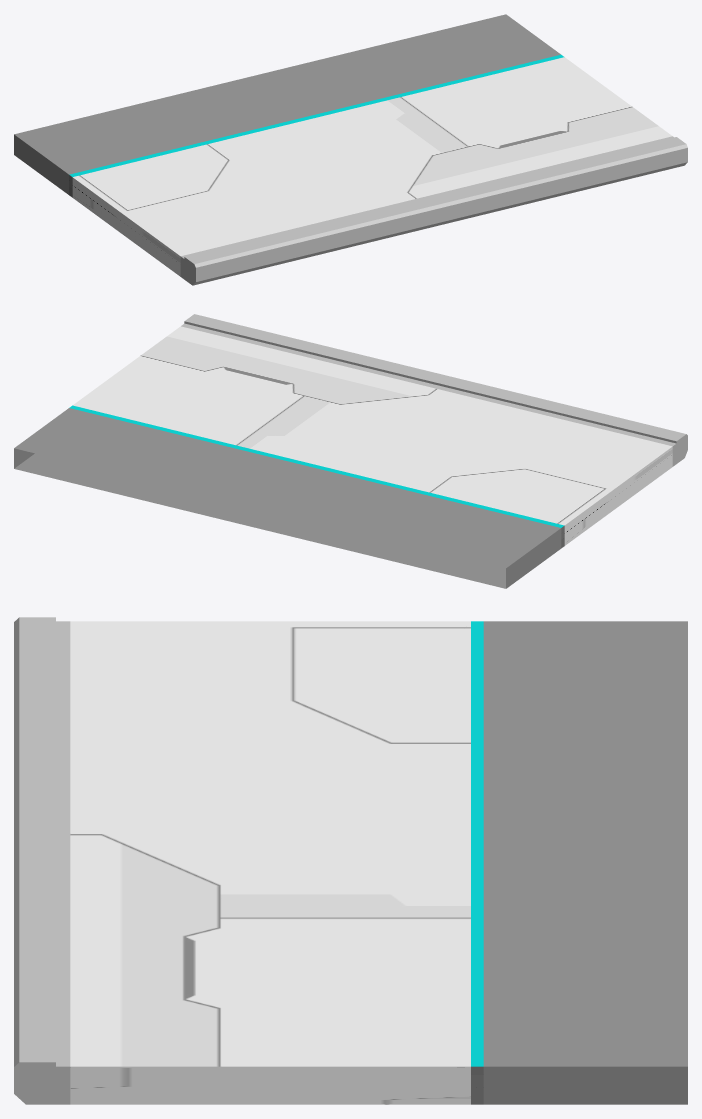
The model's file is SM_Platform_Interior_5x3_1.fbx.
3 renders of one model, top to bottom at view 1: azimuth 30°, elevation 25°; view 2: azimuth 150°, elevation 25°; view 3: azimuth 270°, elevation 25°, orthographic. The views are drawn at different scales.
Visible parts, largest first — view 1: SM_Platform_Interior_5x3_1; view 2: SM_Platform_Interior_5x3_1; view 3: SM_Platform_Interior_5x3_1.
Part boxes in pixels (left/top/right/bottom): SM_Platform_Interior_5x3_1: left=14, top=14, right=687, bottom=285; SM_Platform_Interior_5x3_1: left=14, top=314, right=687, bottom=588; SM_Platform_Interior_5x3_1: left=14, top=617, right=687, bottom=1104.
Bounding box in the file's own units: 500 × 22.17 × 320.
